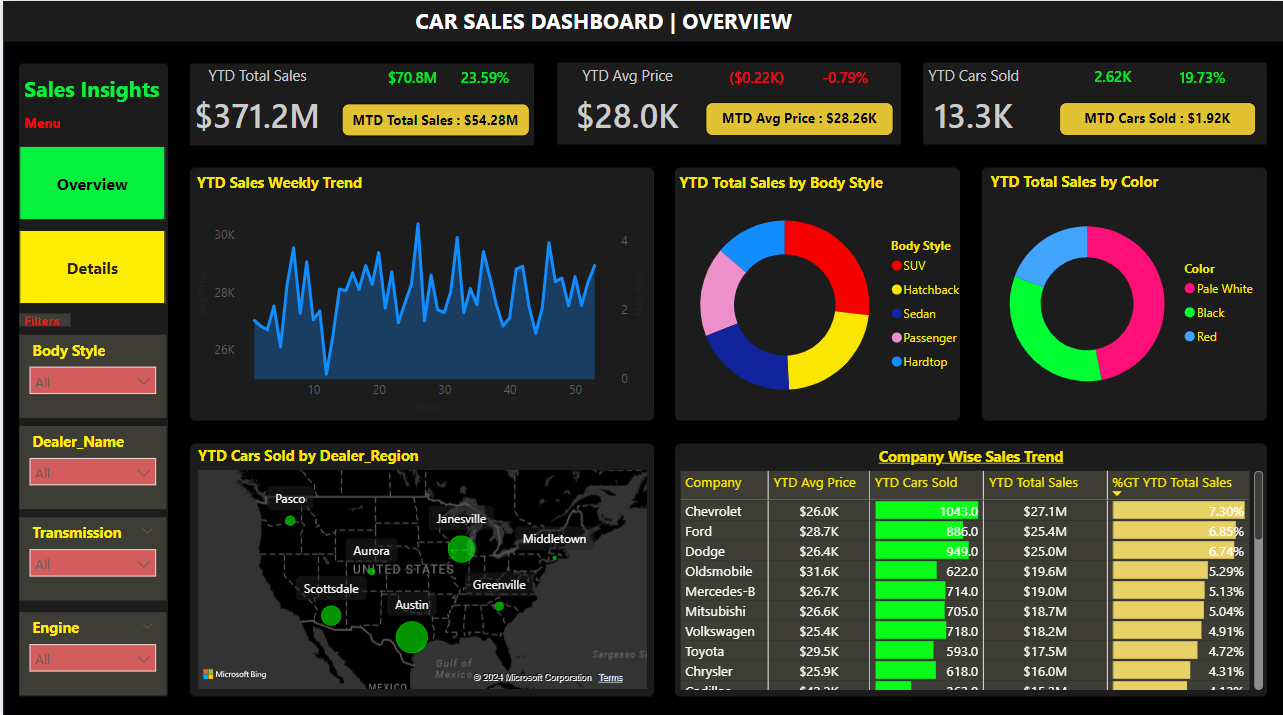

Layout of this report page (visuals, bound fields, positions):
{"tool":"powerbi","page":{"name":"Overview","canvas":[1280,720],"ordinal":0},"visuals":[{"type":"card","title":"YTD Total Sales","fields":{"Values":["car_data.YTD Total Sales"]},"box":[170.3,63.5,169,81.1],"z":0},{"type":"card","fields":{"Values":["car_data.Sales Diffrence"]},"box":[365,63.5,89.2,29.7],"z":1000},{"type":"card","fields":{"Values":["car_data.YoY Sales Growth"]},"box":[438,63.5,89.2,29.7],"z":2000},{"type":"card","fields":{"Values":["car_data.MTD KPI"]},"box":[339.3,102.7,187.9,33],"z":3000},{"type":"card","title":"YTD Avg Price","fields":{"Values":["car_data.YTD Avg Price"]},"box":[539.4,63.5,169,81.1],"z":4000},{"type":"card","fields":{"Values":["car_data.Avg Price Diff"]},"box":[708.4,63.5,89.2,29.7],"z":5000},{"type":"card","fields":{"Values":["car_data.YoY Avg Price Growth"]},"box":[797.6,63.5,89.2,29.7],"z":6000},{"type":"card","fields":{"Values":["car_data.MPd Avg Price KPI"]},"box":[703,101.4,187.9,33.8],"z":7000},{"type":"card","title":"YTD Cars Sold","fields":{"Values":["car_data.YTD Cars Sold"]},"box":[886.9,63.5,169,81.1],"z":8000},{"type":"card","fields":{"Values":["car_data.Cars Sold Diff"]},"box":[1064.4,63,89.7,30.3],"z":9000},{"type":"card","fields":{"Values":["car_data.Yoy Car Sold Growth"]},"box":[1154.5,63.5,89.2,29.7],"z":10000},{"type":"card","fields":{"Values":["car_data.MTD Cars Sold KPI"]},"box":[1056,101.8,196.4,33.9],"z":11000},{"type":"areaChart","title":"YTD Sales Weekly Trend","fields":{"Category":["Calendar Table.Week"],"Y":["car_data.Avg Price"],"Y2":["car_data.MAx Point"]},"box":[189.1,170.9,459.5,246.1],"z":12000},{"type":"donutChart","fields":{"Category":["car_data.Body Style"],"Y":["car_data.YTD Total Sales"]},"box":[671.6,170.9,299.5,246.1],"z":13000},{"type":"donutChart","fields":{"Y":["car_data.YTD Total Sales"],"Category":["car_data.Color"]},"box":[982.9,170.3,281.6,246],"z":14000},{"type":"map","fields":{"Category":["car_data.Dealer_Region"],"Size":["car_data.YTD Cars Sold"]},"box":[189.5,444.2,459.3,248.8],"z":15000},{"type":"tableEx","title":"Company Wise Sales Trend","fields":{"Values":["car_data.Company","car_data.YTD Avg Price","car_data.YTD Cars Sold","car_data.YTD Total Sales1","car_data.YTD Total Sales"]},"box":[671.3,444.7,593.6,248.9],"z":16000},{"type":"textbox","box":[407,0,401.2,40.7],"z":17000},{"type":"slicer","fields":{"Values":["car_data.Body Style"]},"box":[16,334,146.8,83],"z":18000},{"type":"slicer","fields":{"Values":["car_data.Dealer_Name"]},"box":[16,425.5,146.8,83],"z":19000},{"type":"slicer","fields":{"Values":["car_data.Transmission"]},"box":[16,516,146.8,83],"z":20000},{"type":"slicer","fields":{"Values":["car_data.Engine"]},"box":[16,610.6,146.8,83],"z":21000},{"type":"textbox","title":"Filters","box":[16,312.8,51.1,12.8],"z":22000},{"type":"pageNavigator","box":[16.2,145,146.2,158.8],"z":23000},{"type":"textbox","title":"Sales Insights","box":[16.2,72.5,146.2,31.2],"z":24000},{"type":"textbox","title":"Menu","box":[16.2,112.5,103.8,22.5],"z":25000}]}

Visuals, with their boxes in screenshot pixels (x1, y1, x2, y2), scaled from the page's 1280x720 canvas onto the 1283x715 screenshot:
"YTD Total Sales" card: (x1=171, y1=63, x2=340, y2=144)
card - car_data.Sales Diffrence: (x1=366, y1=63, x2=455, y2=93)
card - car_data.YoY Sales Growth: (x1=439, y1=63, x2=528, y2=93)
card - car_data.MTD KPI: (x1=340, y1=102, x2=528, y2=135)
"YTD Avg Price" card: (x1=541, y1=63, x2=710, y2=144)
card - car_data.Avg Price Diff: (x1=710, y1=63, x2=799, y2=93)
card - car_data.YoY Avg Price Growth: (x1=799, y1=63, x2=889, y2=93)
card - car_data.MPd Avg Price KPI: (x1=705, y1=101, x2=893, y2=134)
"YTD Cars Sold" card: (x1=889, y1=63, x2=1058, y2=144)
card - car_data.Cars Sold Diff: (x1=1067, y1=63, x2=1157, y2=93)
card - car_data.Yoy Car Sold Growth: (x1=1157, y1=63, x2=1247, y2=93)
card - car_data.MTD Cars Sold KPI: (x1=1058, y1=101, x2=1255, y2=135)
"YTD Sales Weekly Trend" areaChart: (x1=190, y1=170, x2=650, y2=414)
donutChart - car_data.Body Style x car_data.YTD Total Sales: (x1=673, y1=170, x2=973, y2=414)
donutChart - car_data.YTD Total Sales x car_data.Color: (x1=985, y1=169, x2=1267, y2=413)
map - car_data.Dealer_Region x car_data.YTD Cars Sold: (x1=190, y1=441, x2=650, y2=688)
"Company Wise Sales Trend" tableEx: (x1=673, y1=442, x2=1268, y2=689)
textbox: (x1=408, y1=0, x2=810, y2=40)
slicer - car_data.Body Style: (x1=16, y1=332, x2=163, y2=414)
slicer - car_data.Dealer_Name: (x1=16, y1=423, x2=163, y2=505)
slicer - car_data.Transmission: (x1=16, y1=512, x2=163, y2=595)
slicer - car_data.Engine: (x1=16, y1=606, x2=163, y2=689)
"Filters" textbox: (x1=16, y1=311, x2=67, y2=323)
pageNavigator: (x1=16, y1=144, x2=163, y2=302)
"Sales Insights" textbox: (x1=16, y1=72, x2=163, y2=103)
"Menu" textbox: (x1=16, y1=112, x2=120, y2=134)
